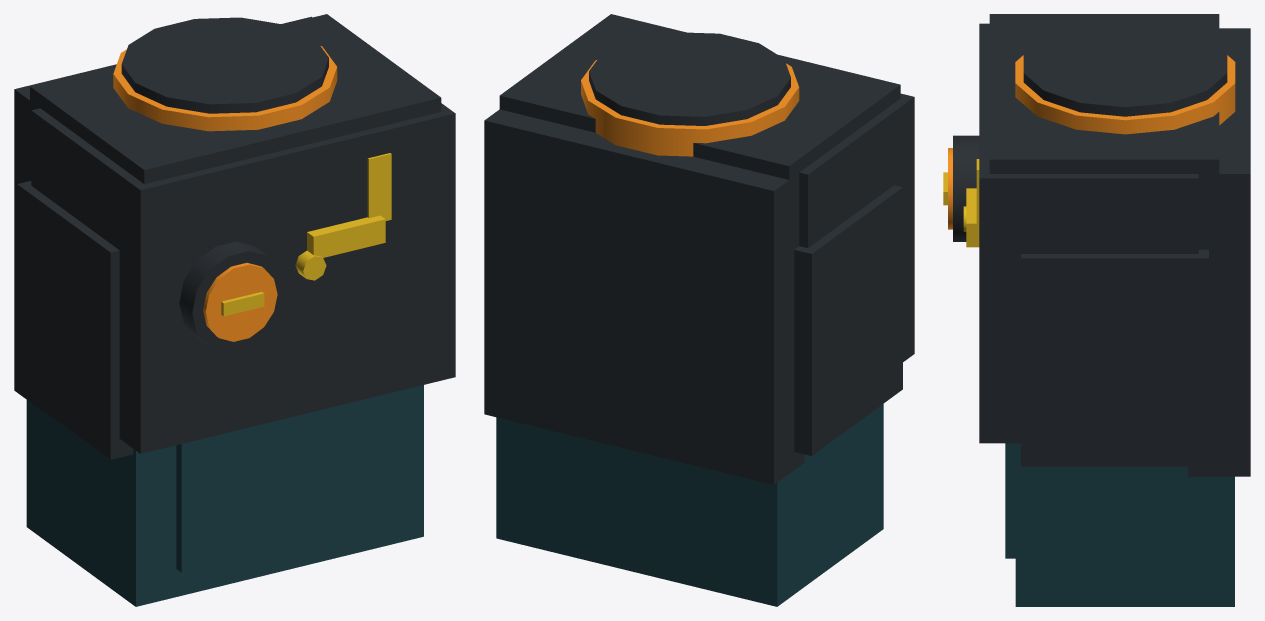
The model's file is mercenary_torso.obj.
3 renders of one model, left to right at view 1: azimuth 30°, elevation 25°; view 2: azimuth 150°, elevation 25°; view 3: azimuth 270°, elevation 25°, orthographic. The views are drawn at different scales.
Bounding box in the file's own units: 0.37 × 0.5 × 0.2945.
